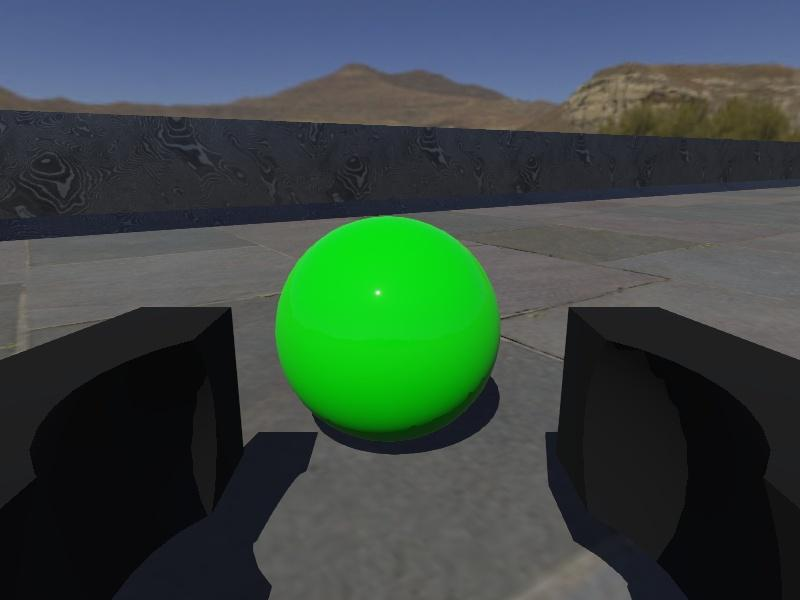green ball: (275, 214, 501, 443)
